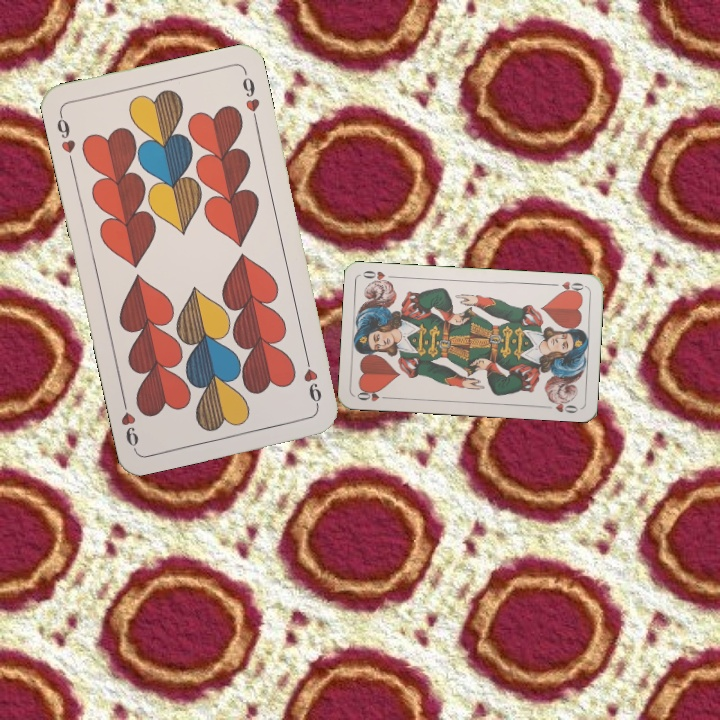H9: (52, 109, 78, 167), (299, 351, 324, 410)
HO: (547, 277, 588, 296), (353, 386, 393, 404)
